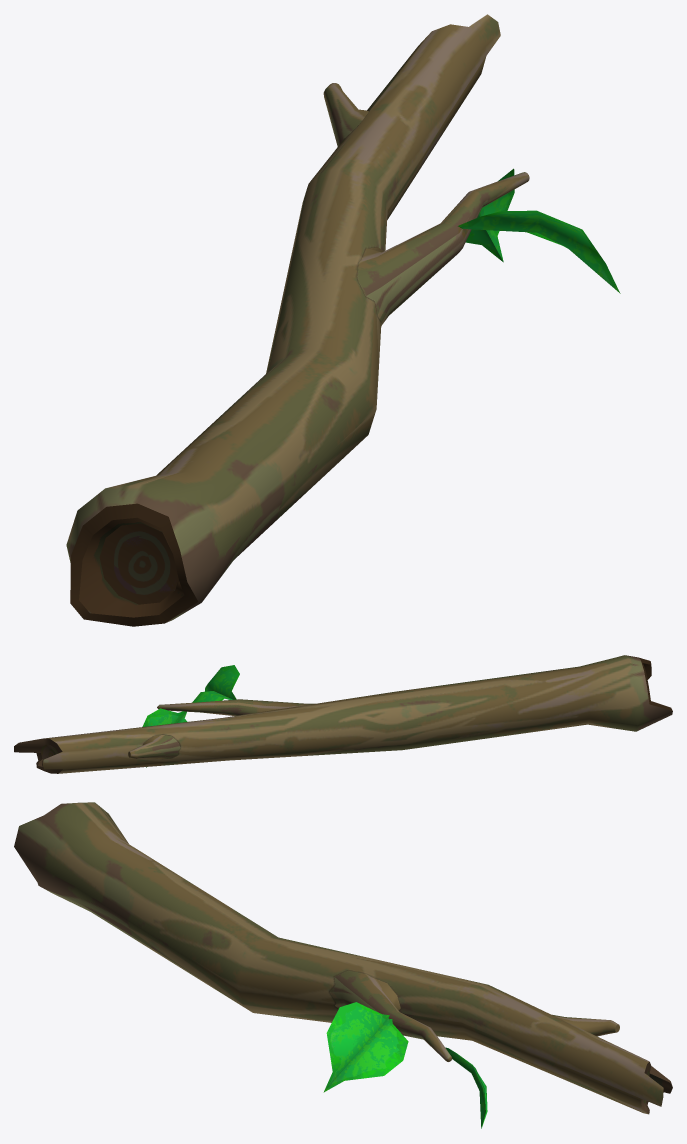
Rendered from weapon-stick1-UI.glb.
The picture shows the model from 3 angles, top to bottom: view 1: azimuth 30°, elevation 25°; view 2: azimuth 150°, elevation 25°; view 3: azimuth 270°, elevation 25°; orthographic projection. The views are drawn at different scales.
Parts seen in each view (by area): view 1: weapon-stick1-UI; view 2: weapon-stick1-UI; view 3: weapon-stick1-UI.
Boxes of the visible parts, x1,y1,x2,y2 form: weapon-stick1-UI: (66, 14, 620, 626); weapon-stick1-UI: (14, 655, 672, 773); weapon-stick1-UI: (14, 802, 672, 1128).
Size of the model in its own units: 0.5694 by 0.0999 by 0.5515.
Materials: 1 (1 with a texture image).
